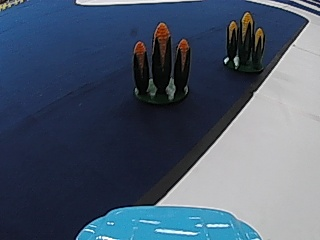corn: (128, 21, 195, 106), (220, 9, 267, 71)
